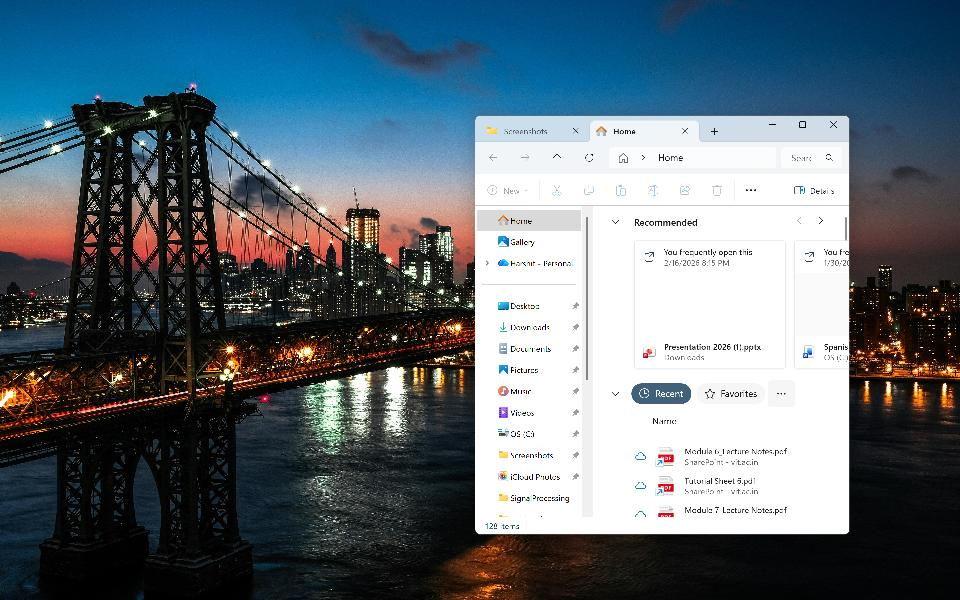close_button: (823, 117, 845, 135)
maximize_button: (793, 117, 814, 135)
minimize_button: (763, 117, 782, 137)
